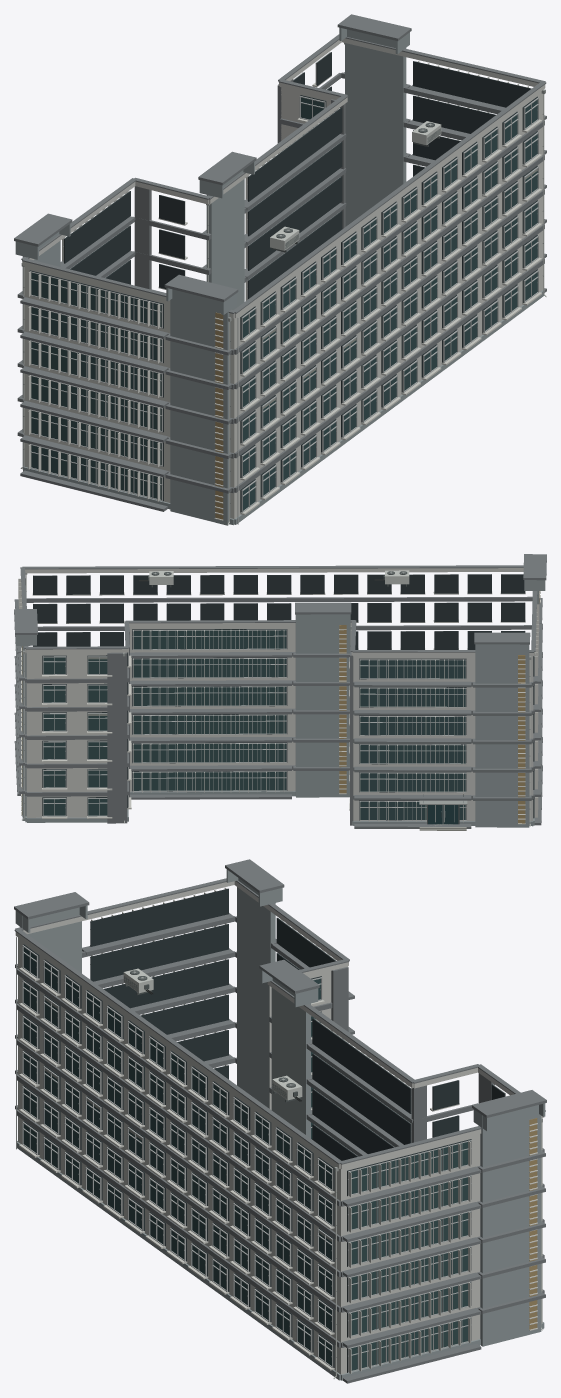
File: osm_way_1173057033.glb
3 views of the same model, one above another, from view 1: azimuth 30°, elevation 25°; view 2: azimuth 150°, elevation 25°; view 3: azimuth 270°, elevation 25° (orthographic). The views are drawn at different scales.
Parts seen in each view (by area): view 1: Windows and facade details | 樱苑54栋, Architecture | 樱苑54栋, Roof services | 樱苑54栋, EXTERIOR::osm_way_1173057033::rainwater and roof service det; view 2: Architecture | 樱苑54栋, Windows and facade details | 樱苑54栋, Roof services | 樱苑54栋, EXTERIOR::osm_way_1173057033::rainwater and roof service det, EXTERIOR::osm_way_1173057033::inferred entry doors canopy an; view 3: Windows and facade details | 樱苑54栋, Architecture | 樱苑54栋, Roof services | 樱苑54栋, EXTERIOR::osm_way_1173057033::rainwater and roof service det.
Part boxes in pixels (x1,y1,x2,y2): Windows and facade details | 樱苑54栋: (28,52,541,524); Architecture | 樱苑54栋: (17,29,546,525); Roof services | 樱苑54栋: (14,14,546,314); EXTERIOR::osm_way_1173057033::rainwater and roof service det: (20,43,546,524); Architecture | 樱苑54栋: (14,568,542,828); Windows and facade details | 樱苑54栋: (18,574,540,824); Roof services | 樱苑54栋: (14,554,546,655); EXTERIOR::osm_way_1173057033::rainwater and roof service det: (22,570,531,826); EXTERIOR::osm_way_1173057033::inferred entry doors canopy an: (419,794,467,830); Windows and facade details | 樱苑54栋: (16,887,537,1373); Architecture | 樱苑54栋: (15,878,545,1383); Roof services | 樱苑54栋: (14,859,546,1164); EXTERIOR::osm_way_1173057033::rainwater and roof service det: (123,968,542,1378).
Bounding box in the file's own units: 56.67 × 21.28 × 43.76.
